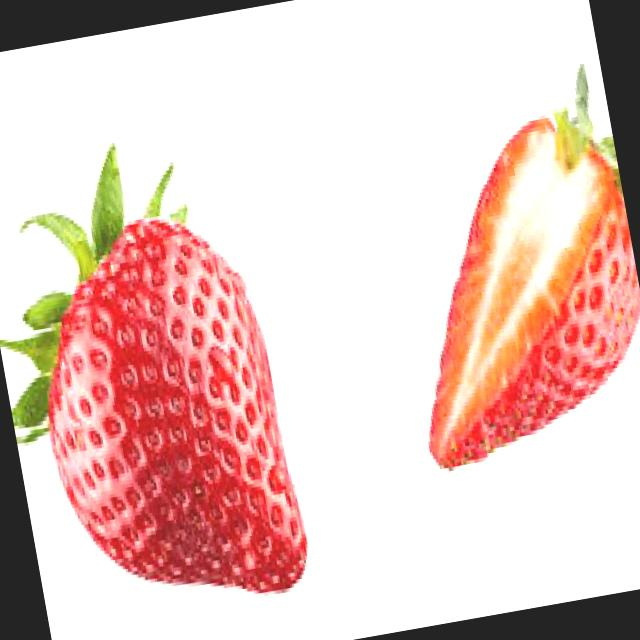strawberry: (0, 105, 345, 640), (374, 84, 640, 473)
